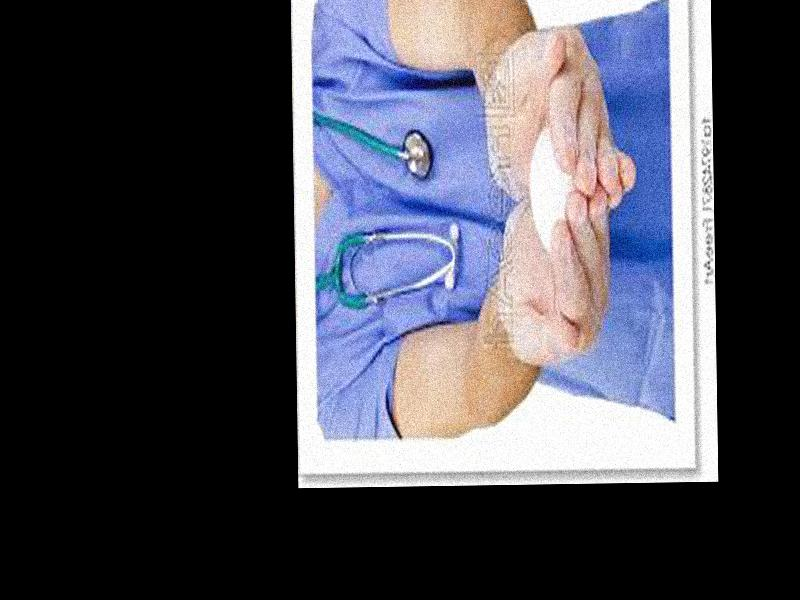Eggs: (528, 130, 578, 253)
